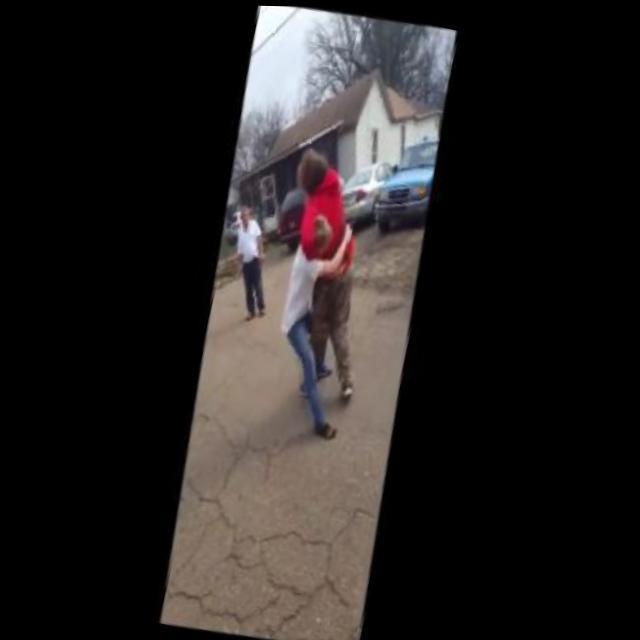fight: (238, 140, 416, 448)
